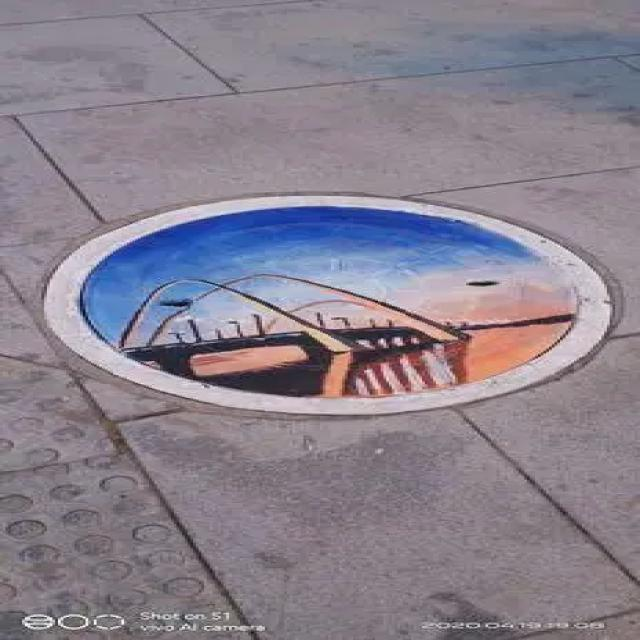manhole: (45, 196, 611, 414)
